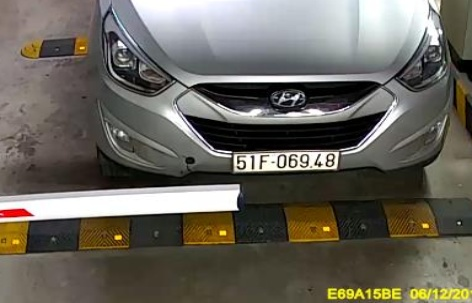plate: (222, 140, 349, 179)
